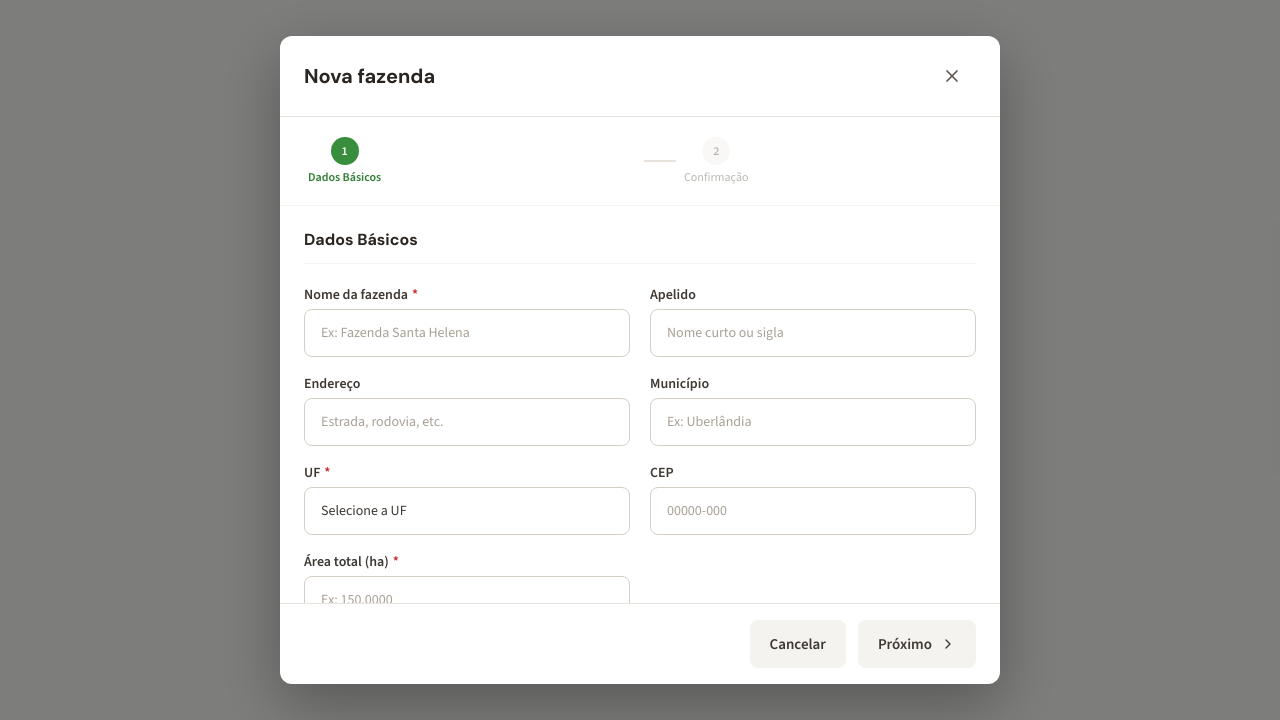
Test: CreateFarmModal › should show validation errors on blur for required fields
This screenshot has width=1280, height=720.
Click the field labelled "Nome da fazenda *".
click(467, 333)  # box [304, 309, 630, 357]
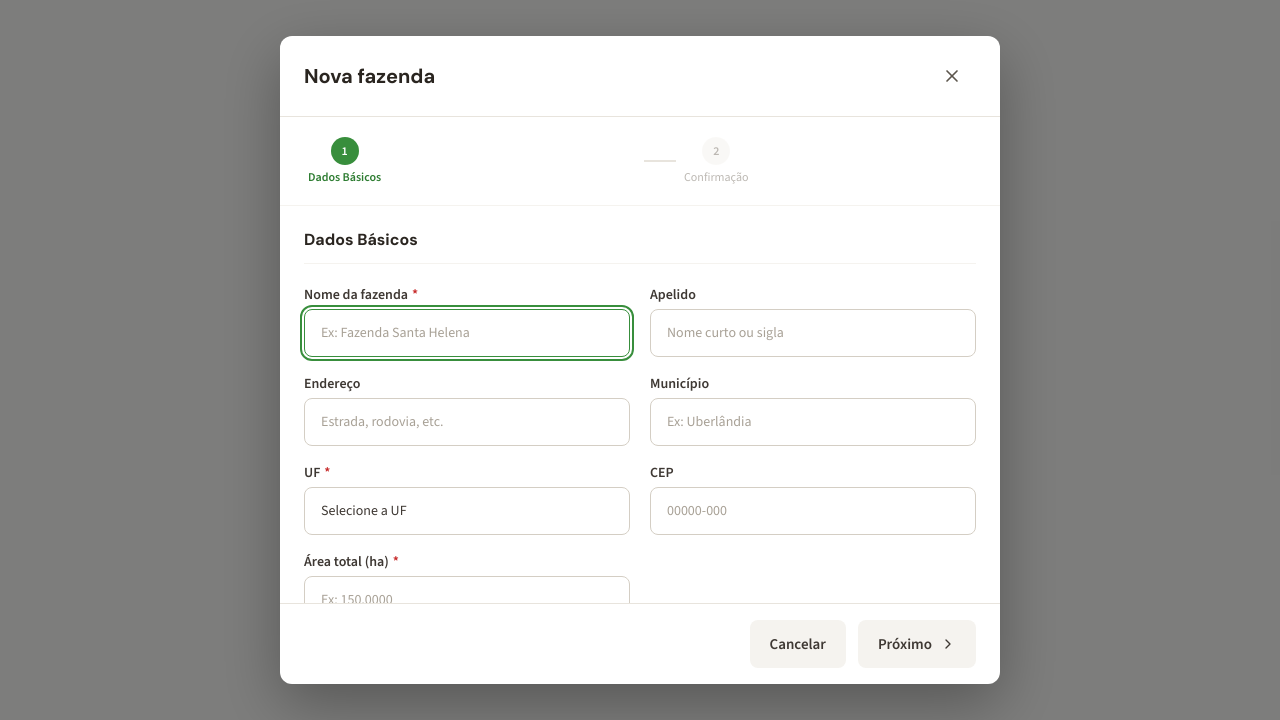
Press Tab
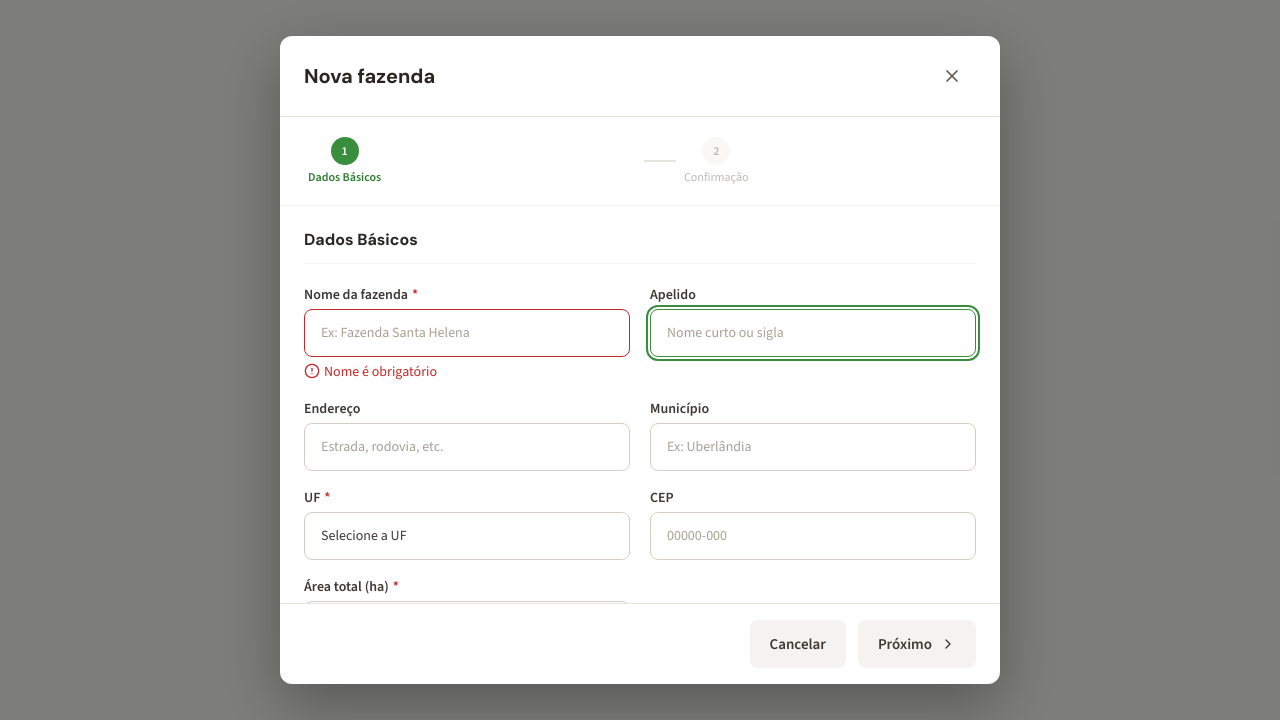
Now the text "Nome é obrigatório" is shown, box [304, 362, 437, 381]
